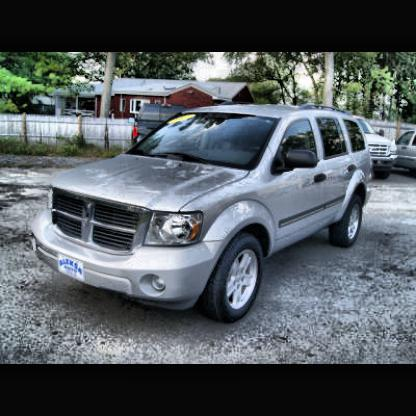Dodge Durango SUV 2007: (34, 106, 375, 325)
